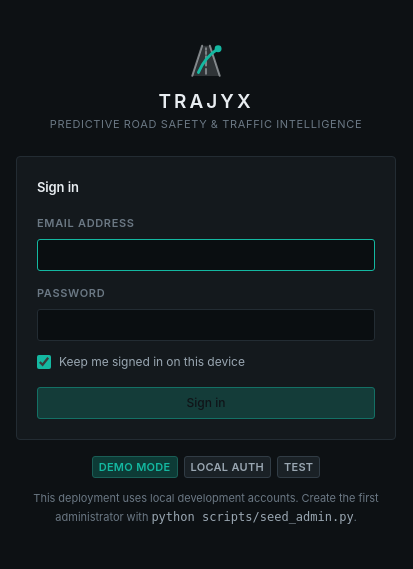
Test: sign-in › reports the API error message on a failed attempt
Expected: the heading "Sign in" is shown, [37,179,79,195]
Type "admin@trajyx.test" into the field labelled "Email address" at x=206, y=255, box [37,239,375,271]
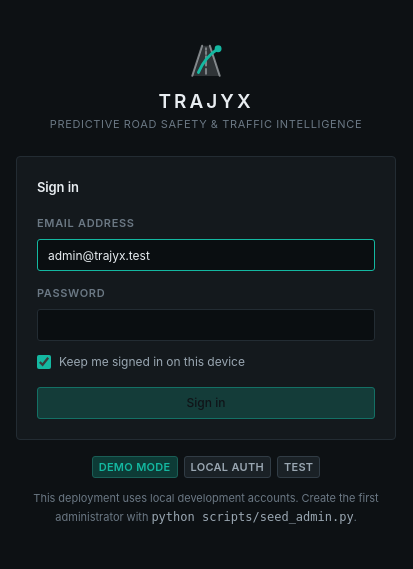
Type "wrong" into the password field labelled "Password" at x=206, y=325, box [37,309,375,341]
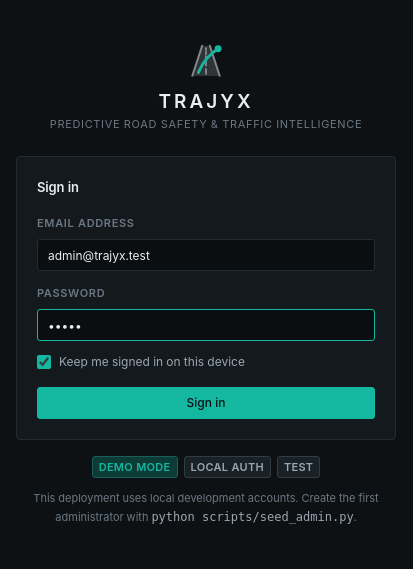
Click the button "Sign in" at x=206, y=403, box [37,387,375,419]
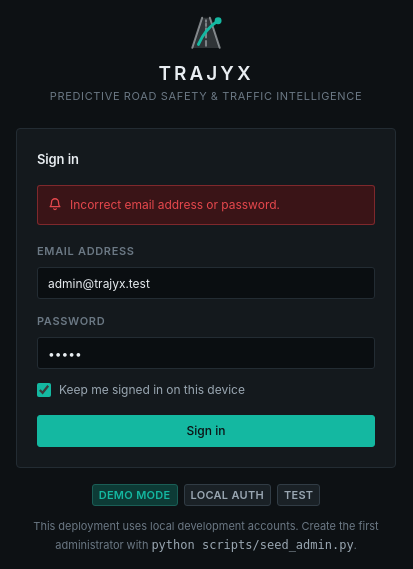
Expected: the heading "Sign in" is shown, [37,151,79,167]
Now the message reads "Incorrect email address or password.", box [70,197,280,212]
